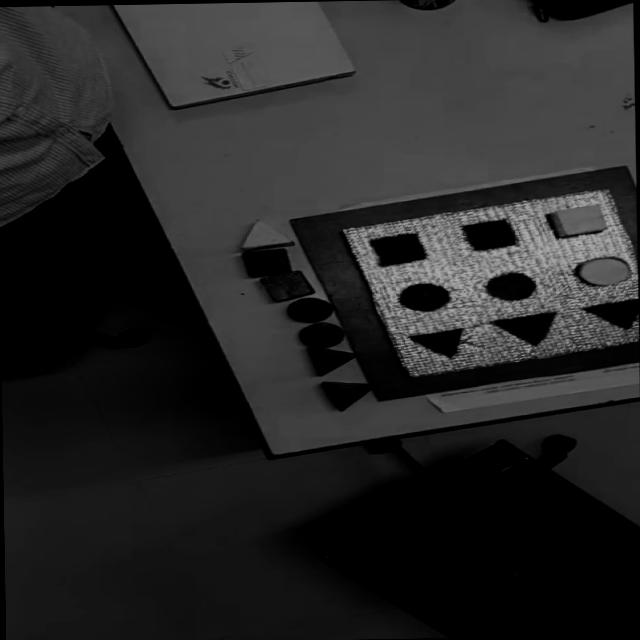bcircle: (287, 296, 335, 322)
bcube: (240, 247, 292, 277)
btriangle: (306, 346, 358, 376)
mtcircle: (398, 282, 450, 312), (485, 270, 537, 300)
mtcube: (368, 232, 426, 266), (462, 219, 516, 251)
mttriangle: (490, 311, 558, 348), (409, 328, 466, 360), (582, 299, 639, 331)
rcircle: (298, 321, 346, 348)
rcube: (260, 270, 316, 302)
rtriangle: (321, 380, 374, 411)
wb: (343, 186, 640, 378)
ycircle: (574, 256, 632, 286)
ycube: (550, 202, 608, 236)
ytriangle: (238, 218, 296, 251)
